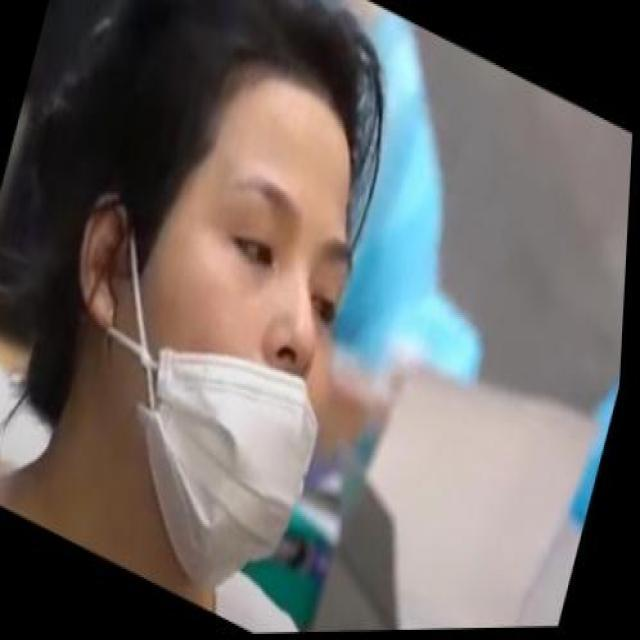hairnet: (122, 129, 383, 621)
